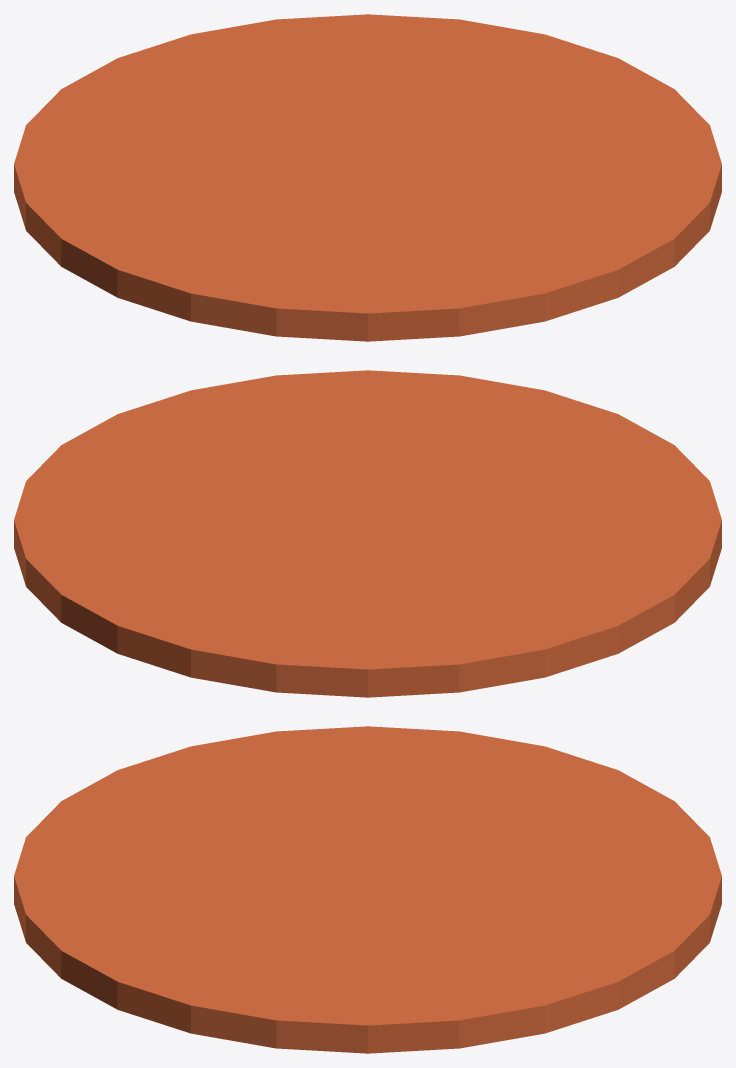
The model's file is sauce.glb.
3 views of the same model, one above another, from view 1: azimuth 30°, elevation 25°; view 2: azimuth 150°, elevation 25°; view 3: azimuth 270°, elevation 25° (orthographic).
Visible parts, largest first — view 1: SauceLayer; view 2: SauceLayer; view 3: SauceLayer.
Part boxes in pixels (bbox=[...]): SauceLayer: bbox=[14, 14, 721, 341]; SauceLayer: bbox=[14, 370, 721, 697]; SauceLayer: bbox=[14, 726, 721, 1053].
Bounding box in the file's own units: 1.6 × 0.07 × 1.6.
